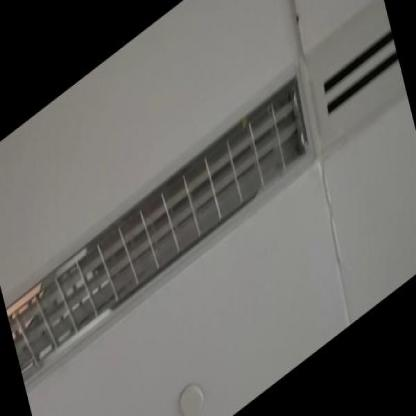light_off: (0, 43, 329, 413)
